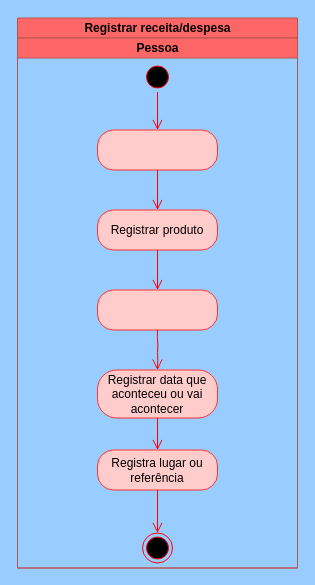
Image size: 315x585. Some labels were removed from this diagram. The shapes that lost their labels are listed below. From the top down, each one's centre as x and y in pixels, then its label:
At point (157, 149): "Categorizar receita/despesa".
At point (157, 309): "Registrar valor".
